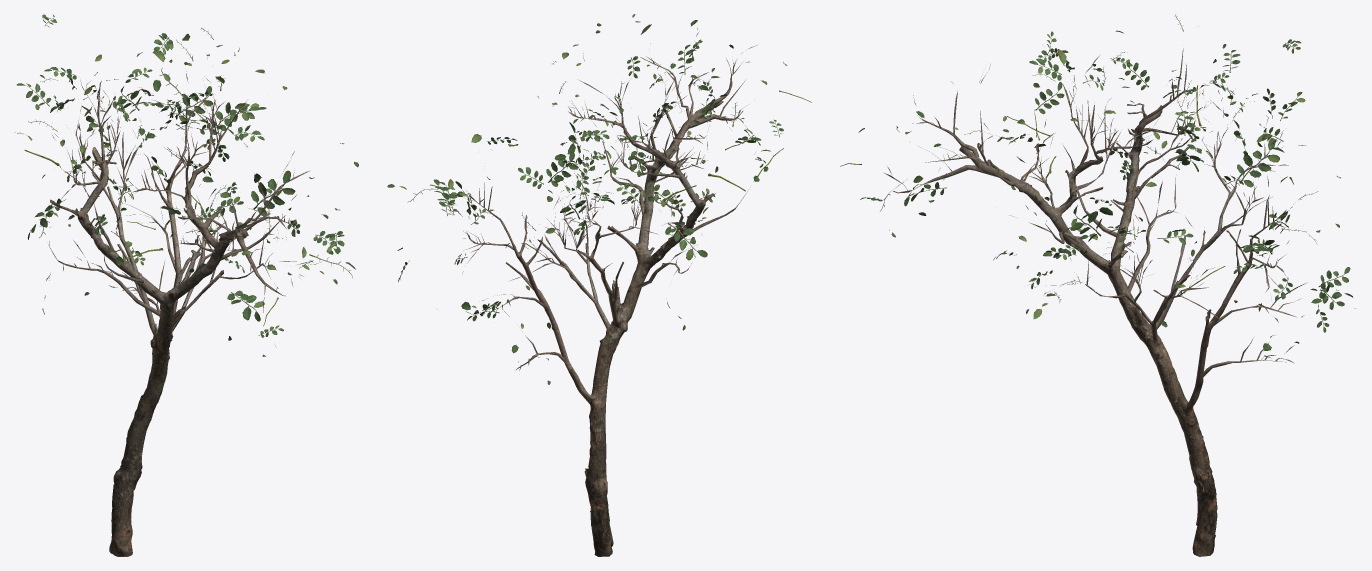
File: tree_b_far.glb
The picture shows the model from 3 angles, left to right: view 1: azimuth 30°, elevation 25°; view 2: azimuth 150°, elevation 25°; view 3: azimuth 270°, elevation 25°; orthographic projection. The views are drawn at different scales.
Parts seen in each view (by area): view 1: tree_small_02_LOD0; view 2: tree_small_02_LOD0; view 3: tree_small_02_LOD0.
Boxes of the visible parts, <box> form: tree_small_02_LOD0: <box>14,14,358,556</box>; tree_small_02_LOD0: <box>387,14,811,556</box>; tree_small_02_LOD0: <box>840,14,1355,556</box>.
Size of the model in its own units: 2.43 by 4.51 by 4.08.
3 materials, 3 textured.
